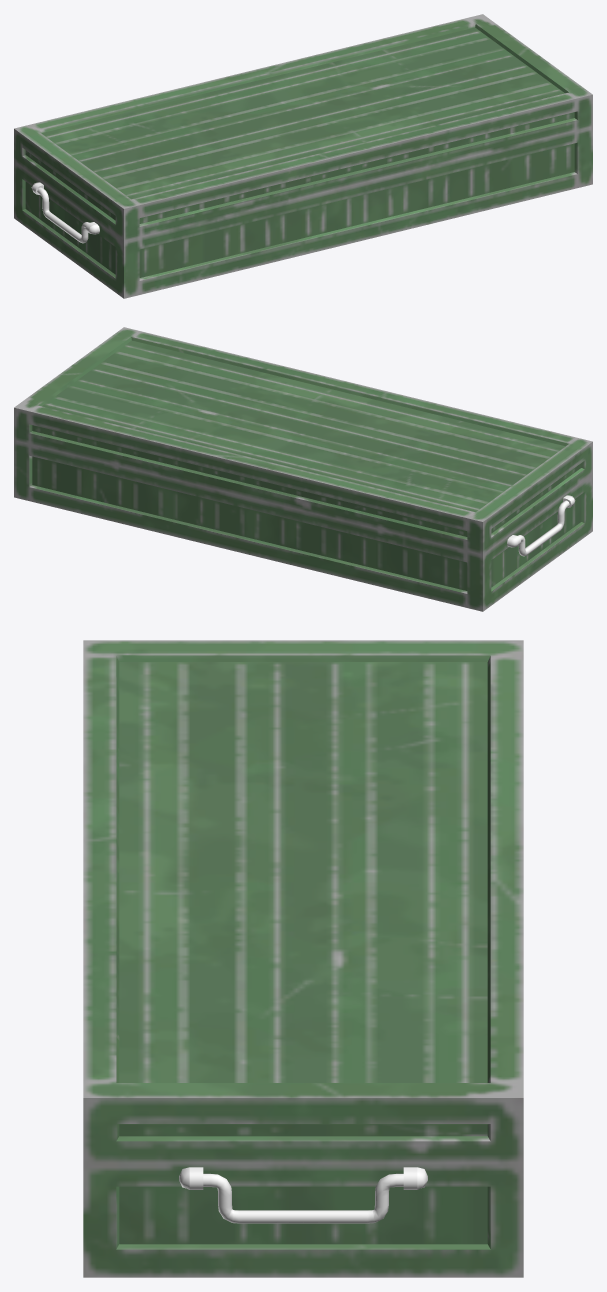
The model's file is Pfb_Weapons.fbx.
3 renders of one model, top to bottom at view 1: azimuth 30°, elevation 25°; view 2: azimuth 150°, elevation 25°; view 3: azimuth 270°, elevation 25°, orthographic. The views are drawn at different scales.
Parts seen in each view (by area): view 1: Mat_Lootbox_01; view 2: Mat_Lootbox_01; view 3: Mat_Lootbox_01.
Part boxes in pixels (bbox=[...]): Mat_Lootbox_01: bbox=[14, 14, 592, 298]; Mat_Lootbox_01: bbox=[14, 327, 592, 611]; Mat_Lootbox_01: bbox=[83, 640, 523, 1277].
Bounding box in the file's own units: 1.88 × 0.333 × 0.7393.
Materials: 1 (1 with a texture image).
